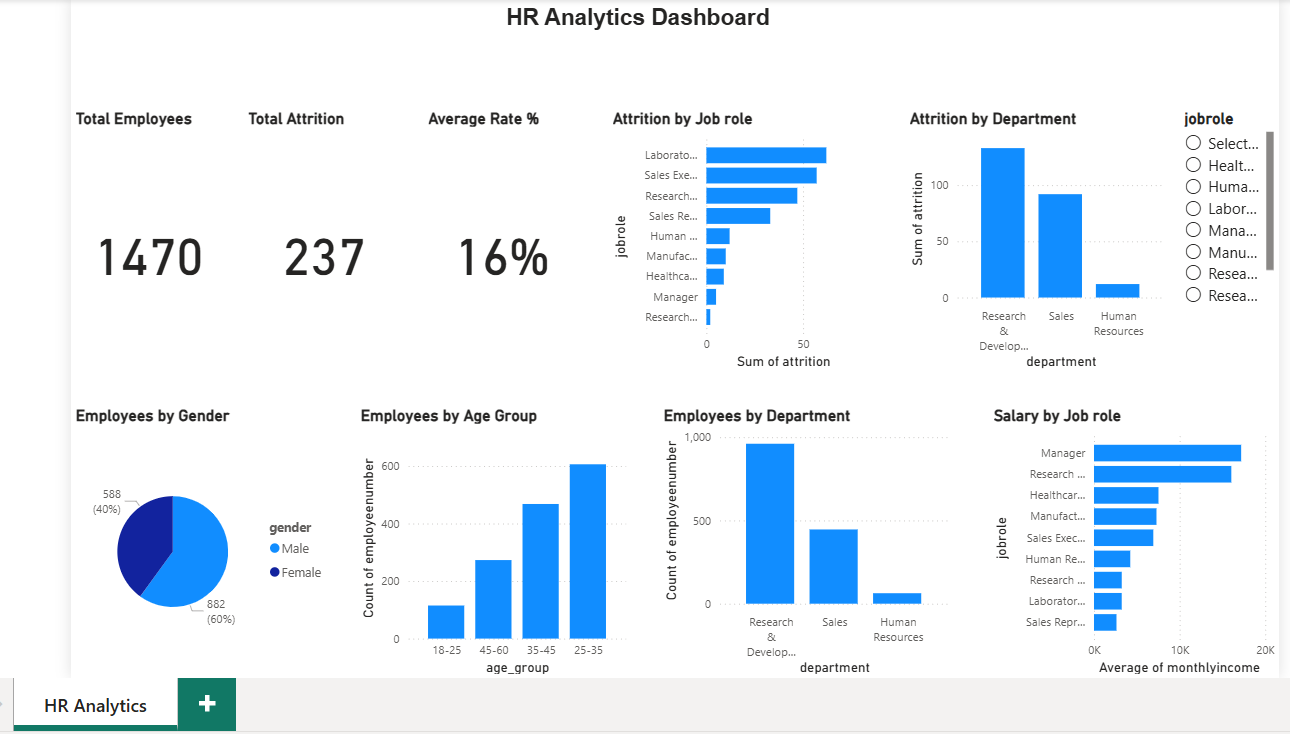

What the dashboard file says about the page in this screenshot:
{"tool":"powerbi","page":{"name":"HR Analytics","canvas":[1280,720],"ordinal":0},"visuals":[{"type":"card","title":"Total Employees","fields":{"Values":["CountNonNull(hr_analytics.employeenumber)"]},"box":[0,116.6,163.5,280.1],"z":0},{"type":"clusteredColumnChart","title":"Attrition by Department","fields":{"Category":["hr_analytics.department"],"Y":["Sum(hr_analytics.attrition)"]},"box":[884.1,116.6,280.1,280.1],"z":1000},{"type":"card","title":"Total Attrition","fields":{"Values":["Sum(hr_analytics.attrition)"]},"box":[183,116.6,170,280.1],"z":2000},{"type":"columnChart","title":"Employees by Age Group","fields":{"Category":["hr_analytics.age_group"],"Y":["CountNonNull(hr_analytics.employeenumber)"]},"box":[302.8,430.7,291.5,289.8],"z":3000},{"type":"barChart","title":"Salary by Job role","fields":{"Y":["Avg(hr_analytics.monthlyincome)"],"Category":["hr_analytics.jobrole"]},"box":[973.2,430.7,307.7,289.8],"z":3001},{"type":"clusteredBarChart","title":"Attrition by Job role","fields":{"Category":["hr_analytics.jobrole"],"Y":["Sum(hr_analytics.attrition)"]},"box":[570,116.6,280.1,280.1],"z":3002},{"type":"pieChart","title":"Employees by Gender","fields":{"Category":["hr_analytics.gender"],"Y":["CountNonNull(hr_analytics.employeenumber)"]},"box":[0,430.7,280.1,289.8],"z":3003},{"type":"clusteredColumnChart","title":"Employees by Department","fields":{"Y":["CountNonNull(hr_analytics.employeenumber)"],"Category":["hr_analytics.department"]},"box":[623.4,430.7,312.5,289.8],"z":3004},{"type":"listSlicer","fields":{"Values":["hr_analytics.jobrole"]},"box":[1175.6,116.6,105.2,220.2],"z":3005},{"type":"textbox","box":[456.5,0,299,41.4],"z":3006},{"type":"card","title":"Average Rate %","fields":{"Values":["Avg(hr_analytics.attrition)"]},"box":[374,116.6,165.2,280.1],"z":3007}]}

Visuals, with their boxes on the page's 1280x720 design canvas (x1, y1, x2, y2). These are canvas units, not pixel positions in the 1290x734 screenshot, which may show the page scaled, cropped or inside an application window:
"Total Employees" card: 0,117,164,397
"Attrition by Department" clusteredColumnChart: 884,117,1164,397
"Total Attrition" card: 183,117,353,397
"Employees by Age Group" columnChart: 303,431,594,720
"Salary by Job role" barChart: 973,431,1281,720
"Attrition by Job role" clusteredBarChart: 570,117,850,397
"Employees by Gender" pieChart: 0,431,280,720
"Employees by Department" clusteredColumnChart: 623,431,936,720
listSlicer - hr_analytics.jobrole: 1176,117,1281,337
textbox: 456,0,756,41
"Average Rate %" card: 374,117,539,397
